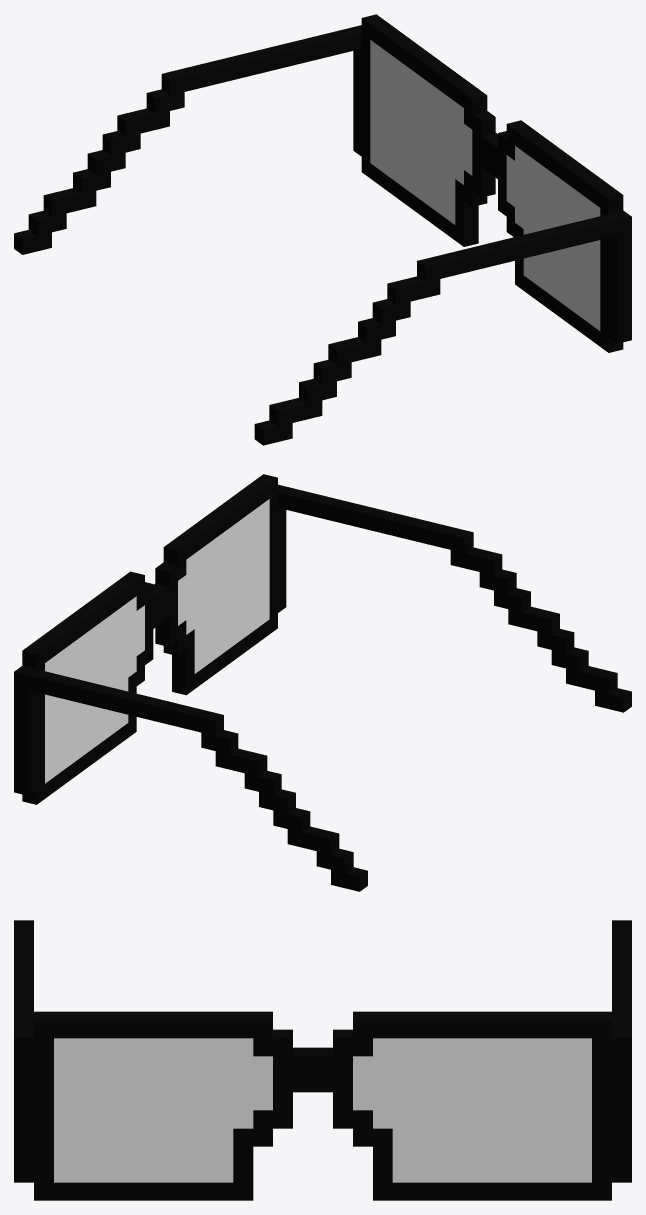
File: Lentes.obj
3 renders of one model, top to bottom at view 1: azimuth 30°, elevation 25°; view 2: azimuth 150°, elevation 25°; view 3: azimuth 270°, elevation 25°, orthographic. The views are drawn at different scales.
Size of the model in its own units: 2.5 by 1 by 3.1.
Materials: 1 (1 with a texture image).
